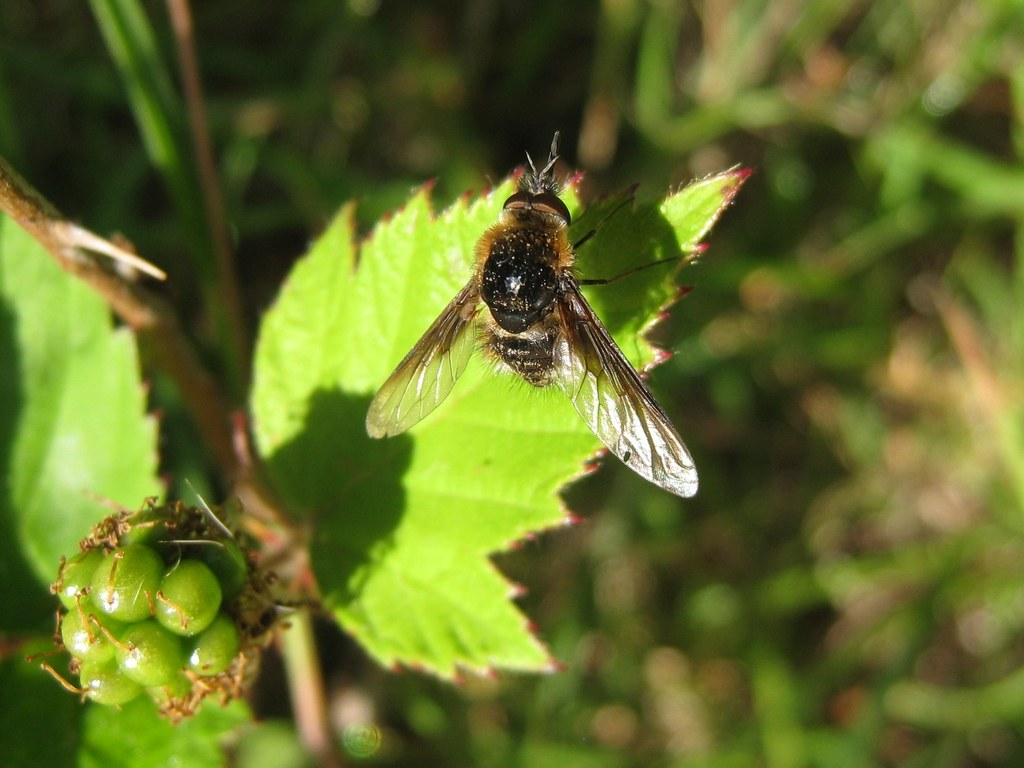bee: (367, 137, 704, 495)
